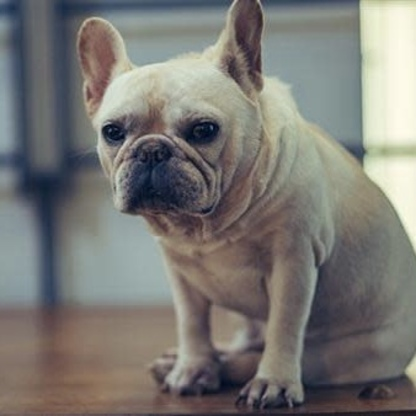bulldog: (76, 14, 416, 402)
